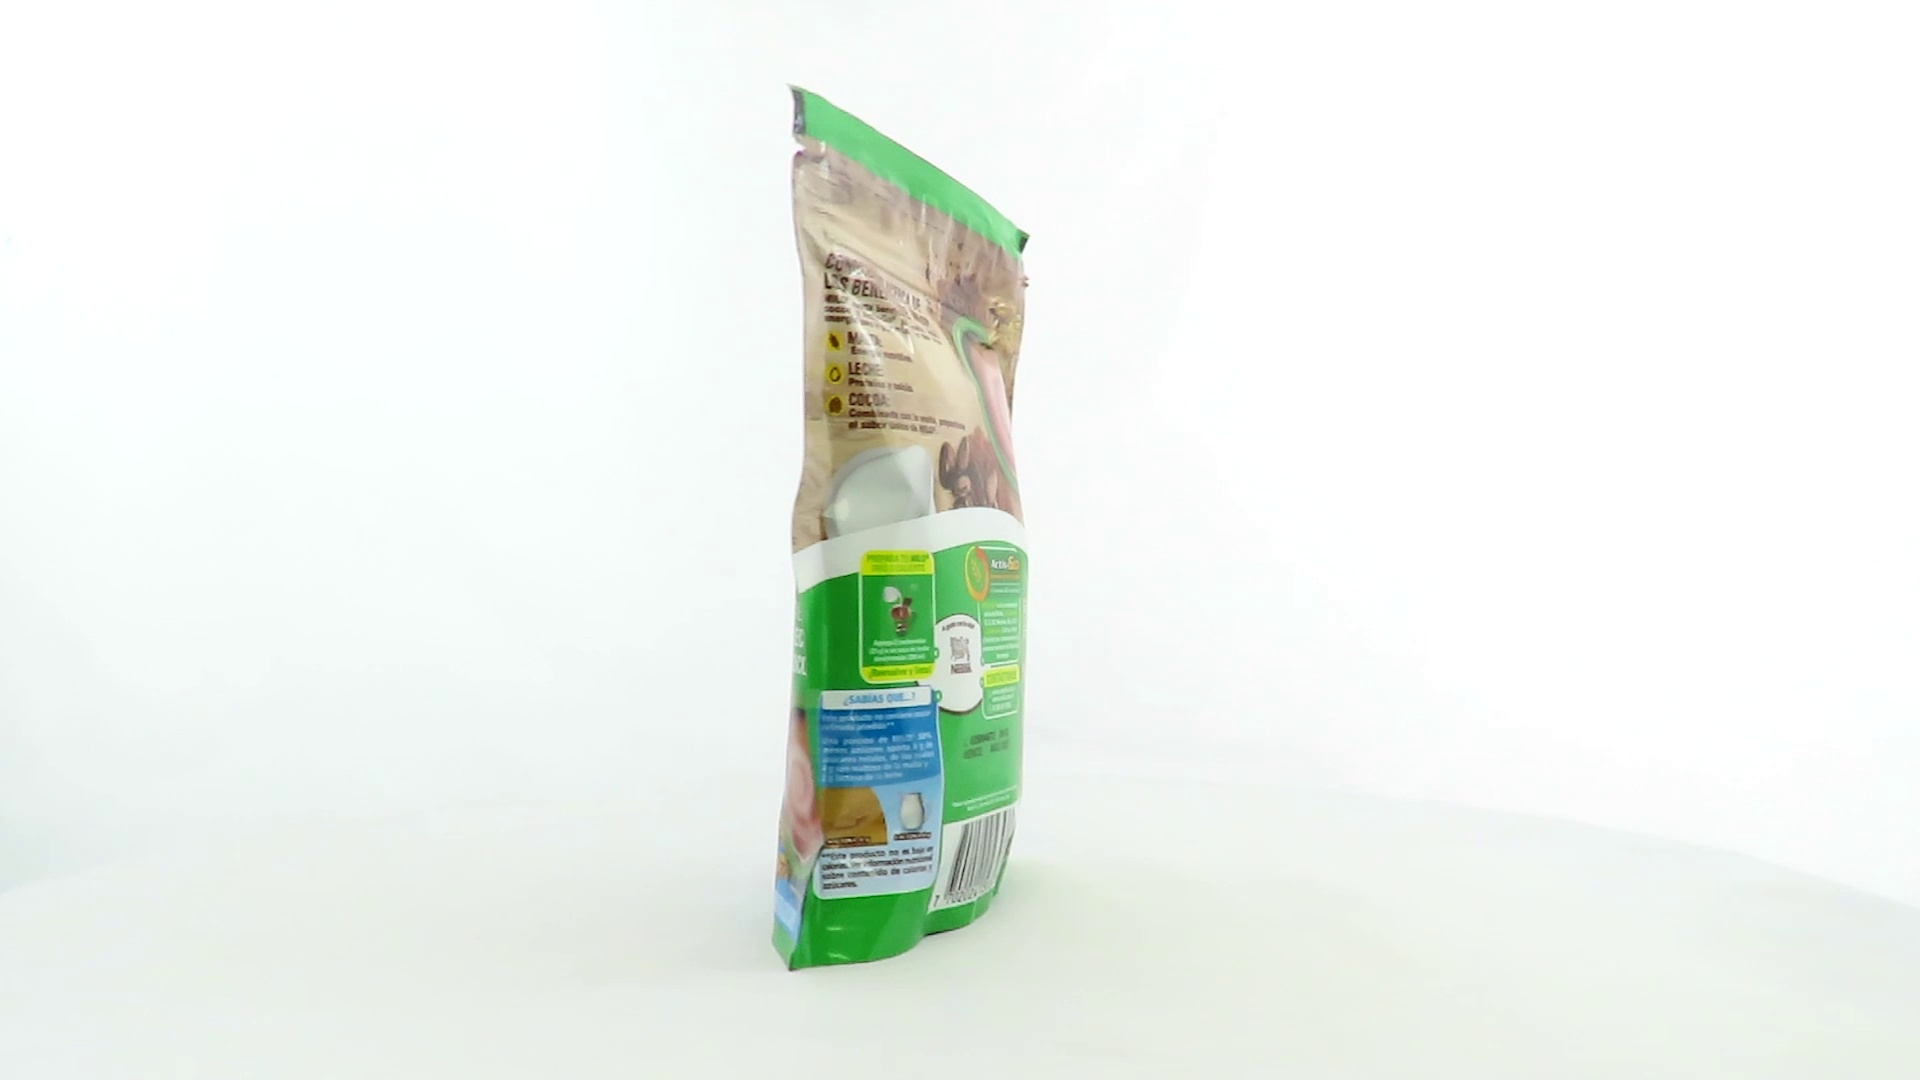COL0170205DYP20000: (766, 78, 1036, 978)
